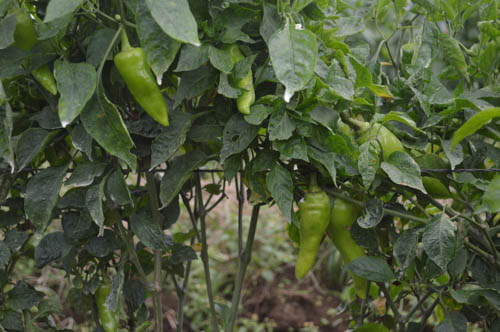ChiliPepper: (114, 51, 170, 126), (9, 14, 59, 97), (289, 194, 329, 292), (331, 194, 369, 287), (220, 48, 256, 118), (360, 125, 404, 162), (93, 281, 115, 328)
